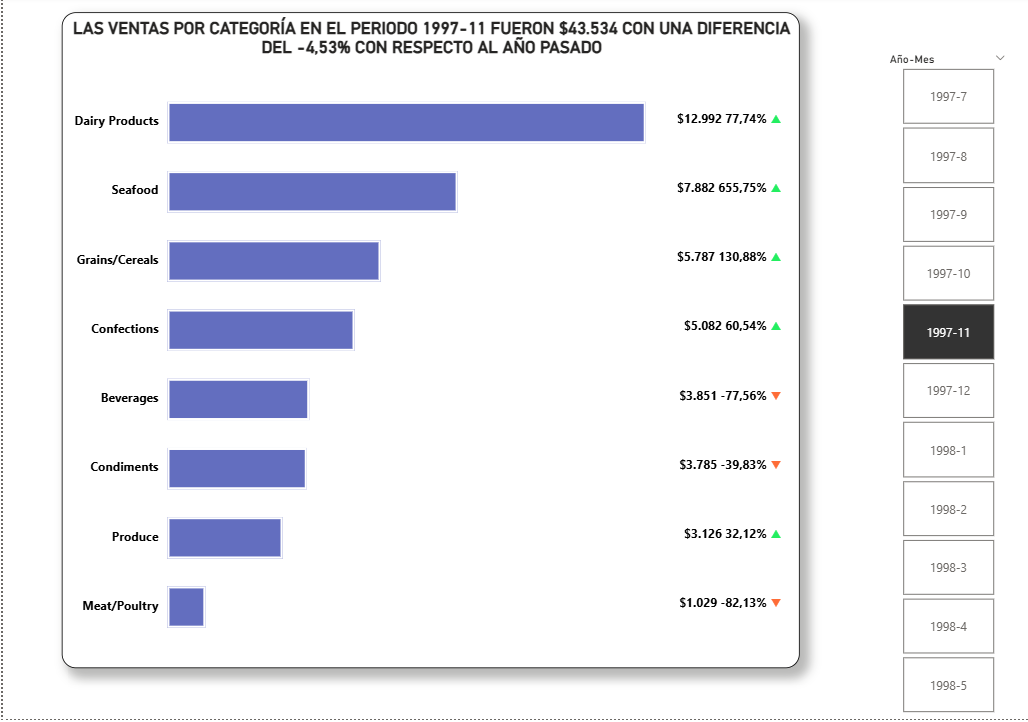

The page's visual inventory and layout, read from the dashboard file:
{"tool":"powerbi","page":{"name":"BARRA","canvas":[1280,720],"ordinal":1},"visuals":[{"type":"slicer","fields":{"Values":["CALENDARIO.Año-Mes"]},"box":[869,51.2,140.5,669],"z":1000},{"type":"clusteredBarChart","fields":{"Category":["Categories.CategoryName"],"Y":["MEDIDAS.MAX CATE SELE","MEDIDAS.VENTAS"]},"box":[59,16.1,734.7,652.5],"z":2000}]}

Visuals, with their boxes on the page's 1280x720 design canvas (x1, y1, x2, y2). These are canvas units, not pixel positions in the 1028x722 screenshot, which may show the page scaled, cropped or inside an application window:
slicer - CALENDARIO.Año-Mes: locate(869, 51, 1010, 720)
clusteredBarChart - Categories.CategoryName x MEDIDAS.MAX CATE SELE: locate(59, 16, 794, 669)
